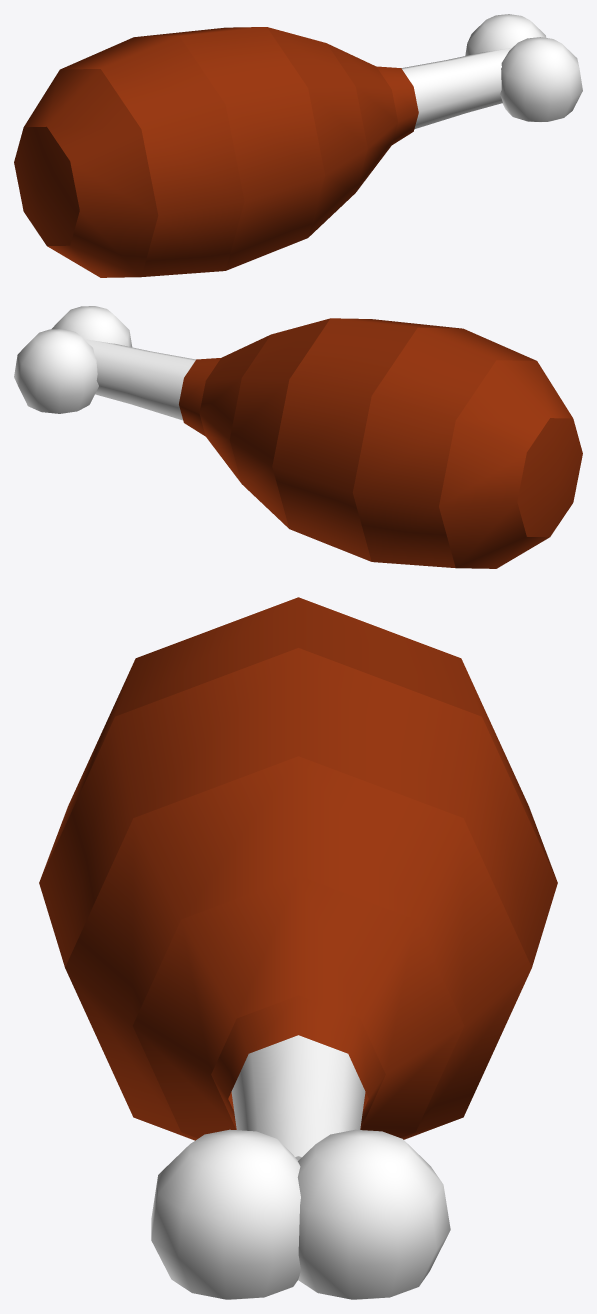
File: Poulet.FBX
3 views of the same model, one above another, from view 1: azimuth 30°, elevation 25°; view 2: azimuth 150°, elevation 25°; view 3: azimuth 270°, elevation 25° (orthographic). The views are drawn at different scales.
Visible parts, largest first — view 1: Line001, Sphere001, Cylinder001, Sphere002; view 2: Line001, Sphere002, Cylinder001, Sphere001; view 3: Line001, Sphere001, Sphere002, Cylinder001.
Part boxes in pixels (bbox=[...]): Line001: bbox=[14, 27, 418, 277]; Sphere001: bbox=[500, 37, 582, 122]; Cylinder001: bbox=[401, 48, 511, 129]; Sphere002: bbox=[465, 14, 546, 55]; Line001: bbox=[179, 318, 582, 568]; Sphere002: bbox=[14, 329, 98, 413]; Cylinder001: bbox=[85, 339, 195, 420]; Sphere001: bbox=[51, 306, 132, 347]; Line001: bbox=[39, 597, 557, 1140]; Sphere001: bbox=[151, 1129, 300, 1299]; Sphere002: bbox=[297, 1129, 450, 1299]; Cylinder001: bbox=[231, 1035, 365, 1160].
Bounding box in the file's own units: 130 × 55.97 × 55.97.
